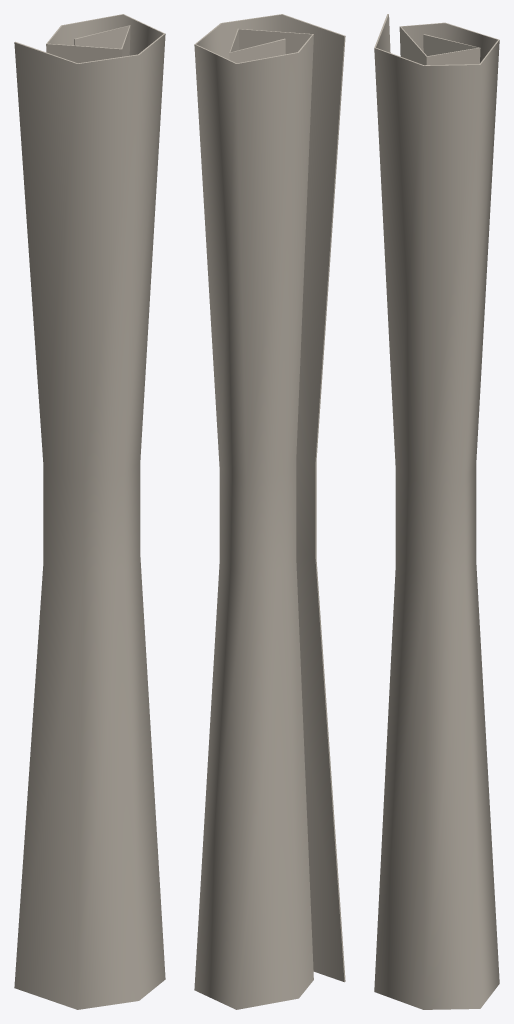
Rendered from rolled-up-poster.glb.
3 renders of one model, left to right at view 1: azimuth 30°, elevation 25°; view 2: azimuth 210°, elevation 25°; view 3: azimuth 330°, elevation 25°, orthographic.
Visible parts, largest first — view 1: Grid; view 2: Grid; view 3: Grid.
Boxes of the visible parts, x1,y1,x2,y2 form: Grid: (14, 14, 165, 1009); Grid: (194, 14, 345, 1009); Grid: (374, 14, 499, 1009).
Bounding box in the file's own units: 0.0812 × 0.6001 × 0.0575.
